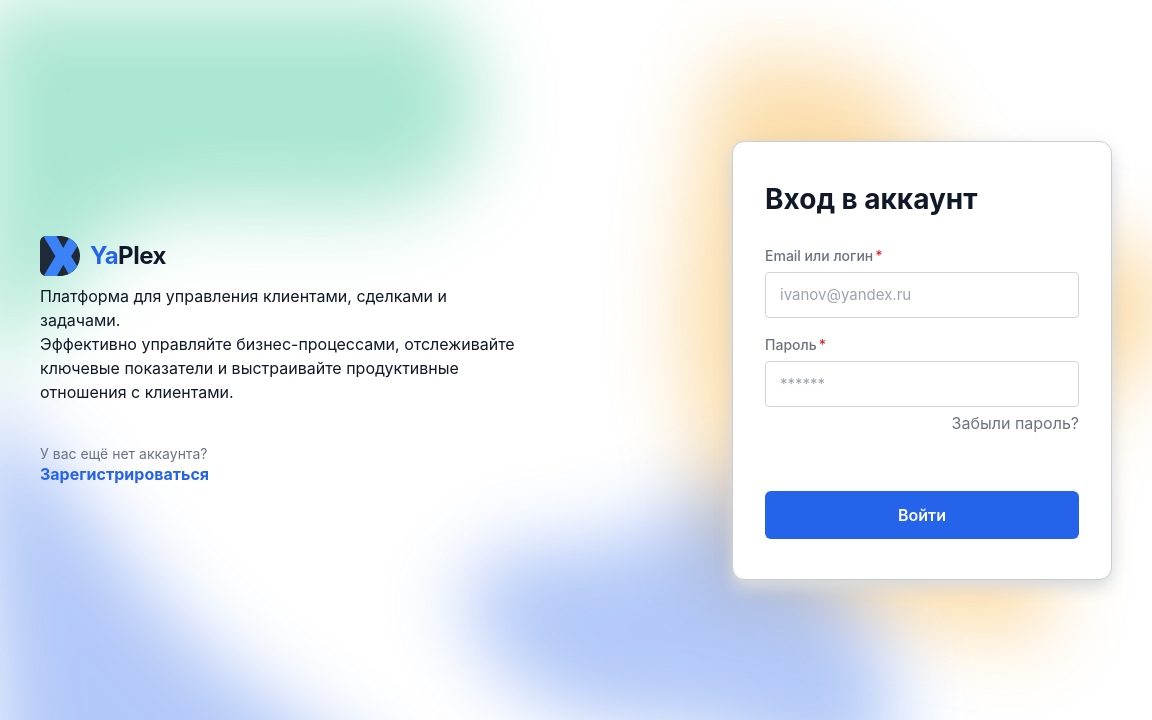
Test: LoginPage integration › displays error message on failed login
Step 1. Type "test@test.com" into the field labelled "Email или логин*" → {"x": 922, "y": 294}, box [765,272,1079,318]
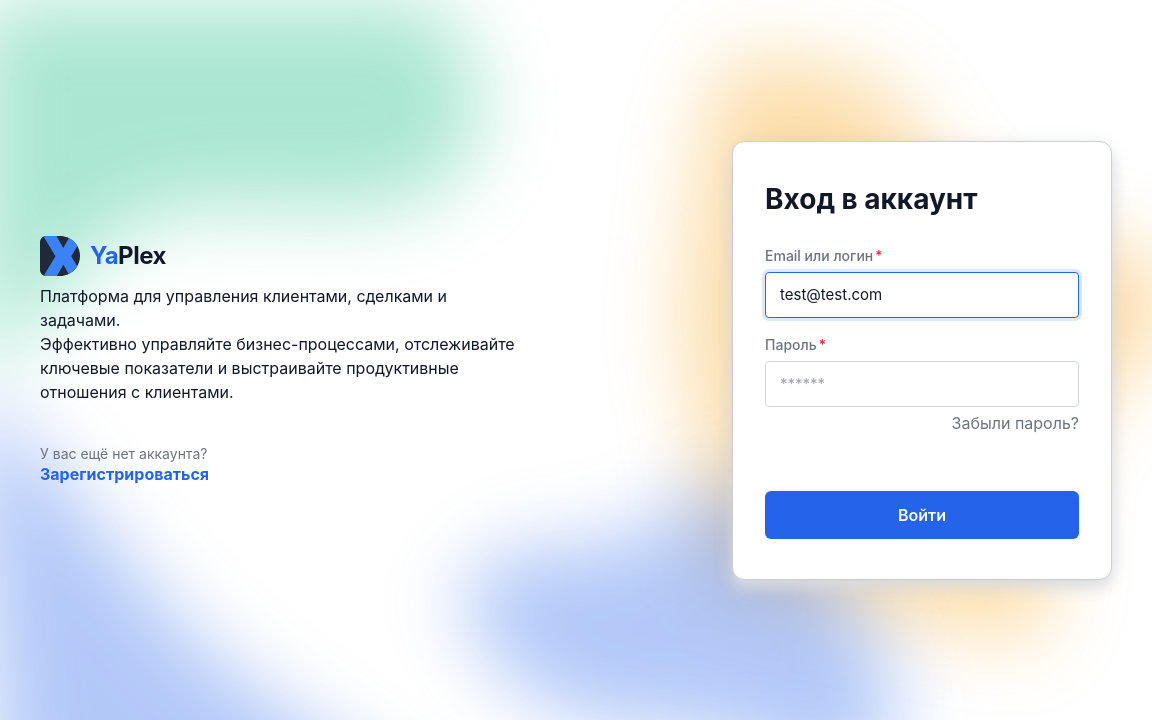
Step 2. Type "wrong" into the password field labelled "Пароль*" → {"x": 922, "y": 384}, box [765,360,1079,406]
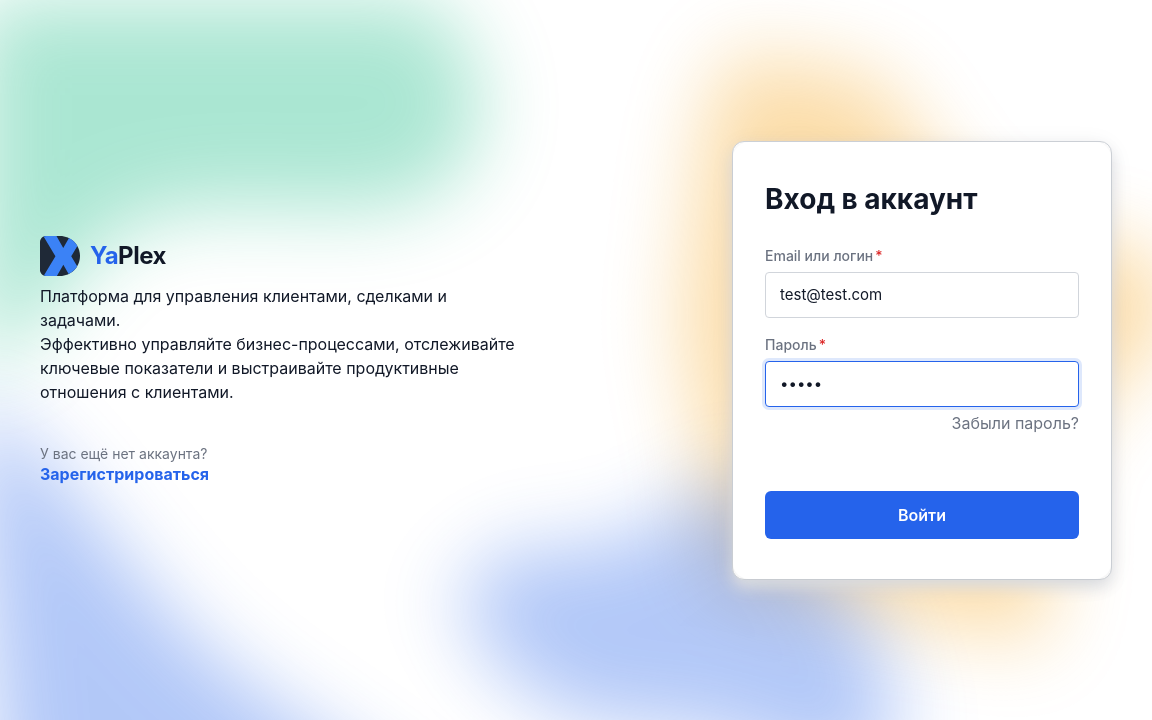
Step 3. Click the button "Войти" → {"x": 922, "y": 514}, box [765,490,1079,538]
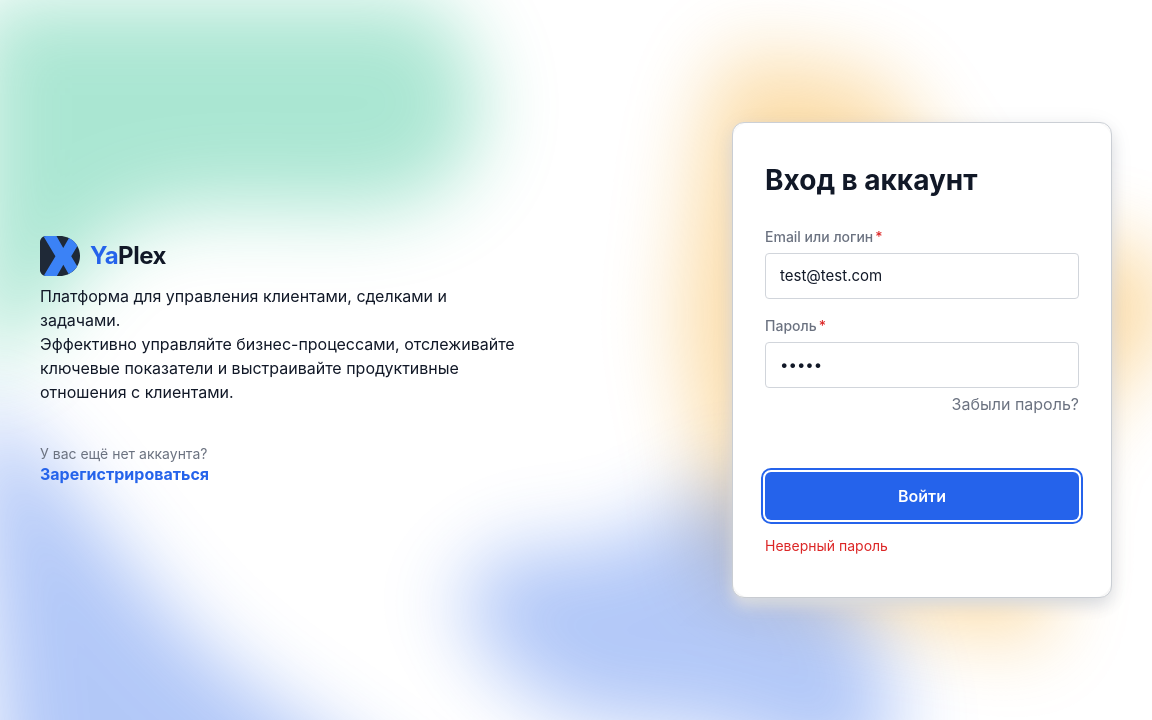
Check: the message reads "Неверный пароль", box [765,537,888,554]
